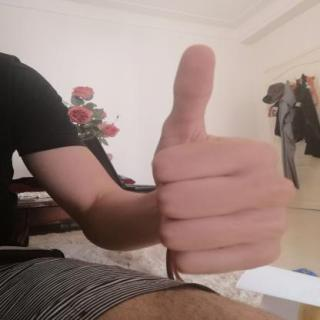ALIF: (138, 33, 303, 286)
